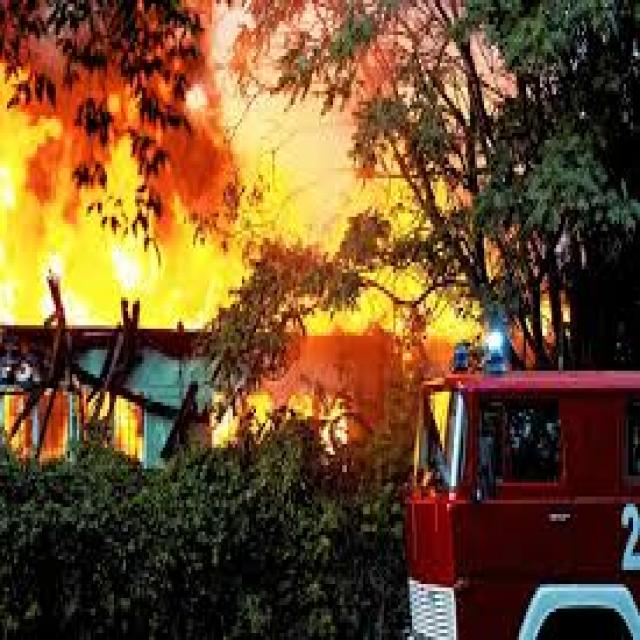Fire: (0, 0, 519, 490)
